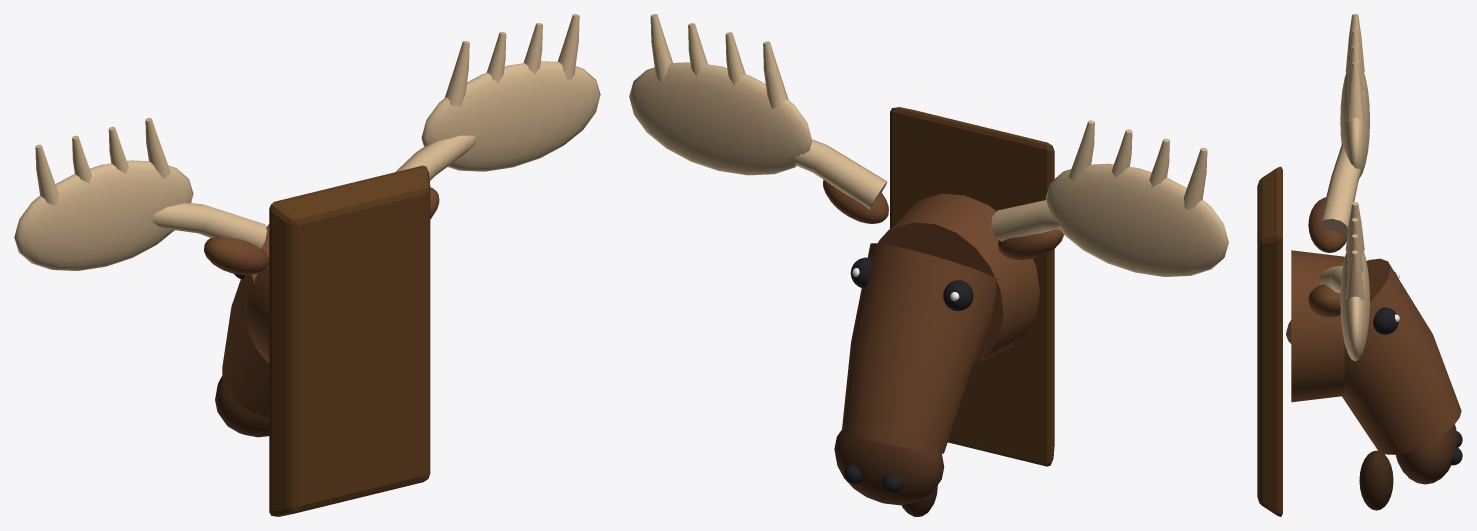
The model's file is moose.fbx.
The picture shows the model from 3 angles, left to right: view 1: azimuth 30°, elevation 25°; view 2: azimuth 150°, elevation 25°; view 3: azimuth 270°, elevation 25°; orthographic projection. The views are drawn at different scales.
Parts seen in each view (by area): view 1: Taxidermy Moose Head; view 2: Taxidermy Moose Head; view 3: Taxidermy Moose Head.
Part boxes in pixels (box(x1,y1,x2,y2)): Taxidermy Moose Head: box(14, 14, 600, 516); Taxidermy Moose Head: box(629, 14, 1228, 516); Taxidermy Moose Head: box(1257, 14, 1462, 516).
Bounding box in the file's own units: 2.88 × 1.95 × 0.965.
